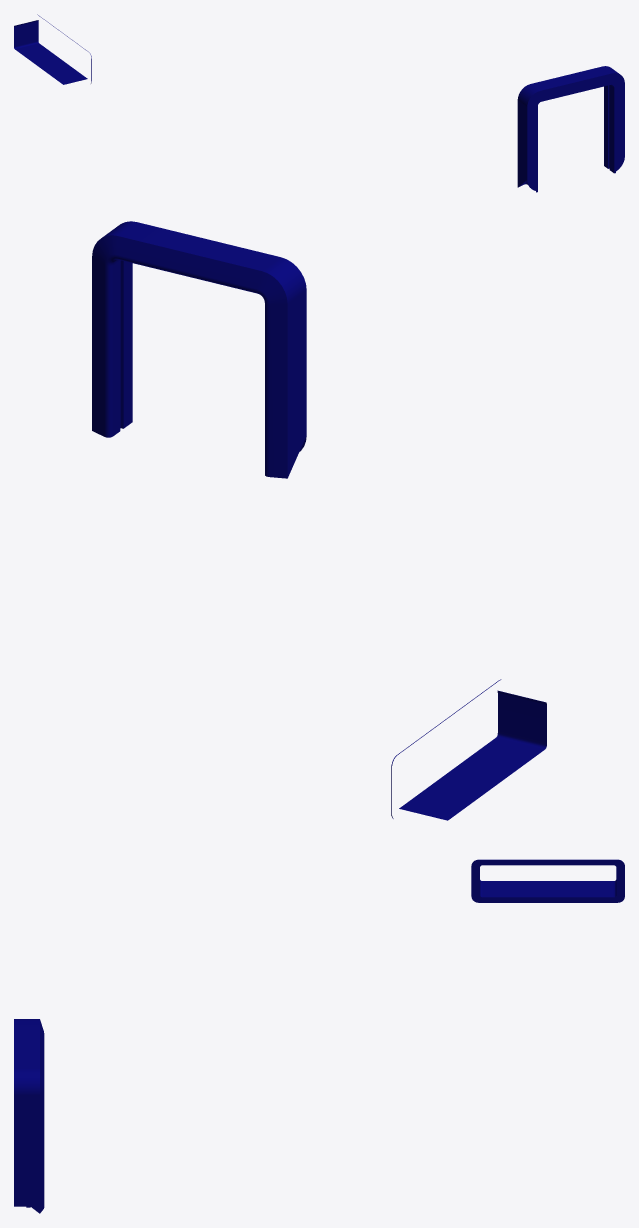
Rendered from FloatingAptTrim01_mesh.fbx.
The picture shows the model from 3 angles, top to bottom: view 1: azimuth 30°, elevation 25°; view 2: azimuth 150°, elevation 25°; view 3: azimuth 270°, elevation 25°; orthographic projection. The views are drawn at different scales.
Parts seen in each view (by area): view 1: FloatingAptTrim01_mesh; view 2: FloatingAptTrim01_mesh; view 3: FloatingAptTrim01_mesh.
Boxes of the visible parts, x1,y1,x2,y2 form: FloatingAptTrim01_mesh: (14,14,624,192); FloatingAptTrim01_mesh: (92,221,546,820); FloatingAptTrim01_mesh: (14,859,624,1213).
Size of the model in its own units: 529 by 131 by 529.
